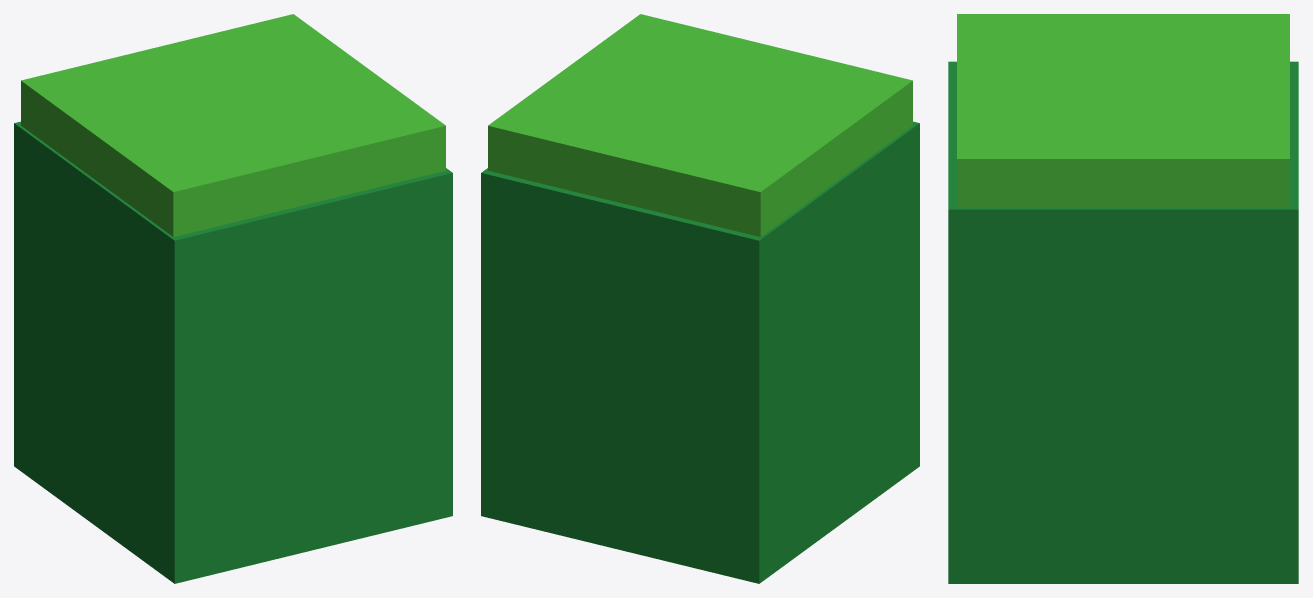
The model's file is hedge_corner.fbx.
The picture shows the model from 3 angles, left to right: view 1: azimuth 30°, elevation 25°; view 2: azimuth 150°, elevation 25°; view 3: azimuth 270°, elevation 25°; orthographic projection. The views are drawn at different scales.
Parts seen in each view (by area): view 1: hedge_corner; view 2: hedge_corner; view 3: hedge_corner.
Part boxes in pixels (x1=…): hedge_corner: x1=14, y1=14, x2=452, y2=583; hedge_corner: x1=481, y1=14, x2=919, y2=583; hedge_corner: x1=948, y1=14, x2=1298, y2=583.
Size of the model in its own units: 0.9 by 1.2 by 0.9.
